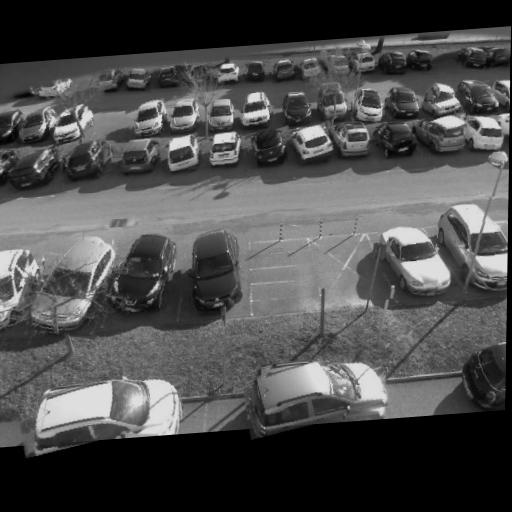busy: (17, 368, 184, 453), (242, 351, 388, 435), (30, 233, 114, 342), (436, 195, 509, 294), (102, 228, 177, 316), (378, 217, 455, 300), (177, 225, 244, 316), (460, 344, 506, 411), (4, 144, 65, 192), (59, 139, 112, 184), (291, 120, 338, 167), (0, 249, 36, 309), (422, 92, 468, 138), (417, 116, 469, 156), (157, 134, 204, 178), (246, 126, 293, 168), (47, 105, 93, 146), (373, 120, 419, 160), (114, 138, 161, 177), (464, 113, 507, 154), (125, 98, 169, 138), (422, 81, 465, 120), (333, 121, 374, 159), (383, 85, 425, 122), (13, 108, 55, 145), (205, 131, 244, 169), (237, 90, 274, 130), (458, 80, 500, 115), (164, 98, 202, 135), (352, 88, 390, 124), (383, 95, 419, 133), (203, 99, 237, 134), (281, 92, 316, 125), (317, 87, 348, 121), (121, 66, 153, 93), (458, 46, 492, 71), (92, 69, 123, 94), (270, 58, 300, 83), (378, 51, 408, 76), (405, 49, 434, 73), (154, 65, 182, 89), (212, 63, 239, 87), (352, 52, 379, 75), (187, 63, 214, 86), (0, 111, 20, 142), (298, 56, 323, 80), (324, 54, 350, 77), (485, 47, 510, 70), (492, 82, 510, 113), (0, 151, 15, 188), (242, 62, 267, 84)
free: (97, 112, 129, 140), (430, 54, 457, 72)
